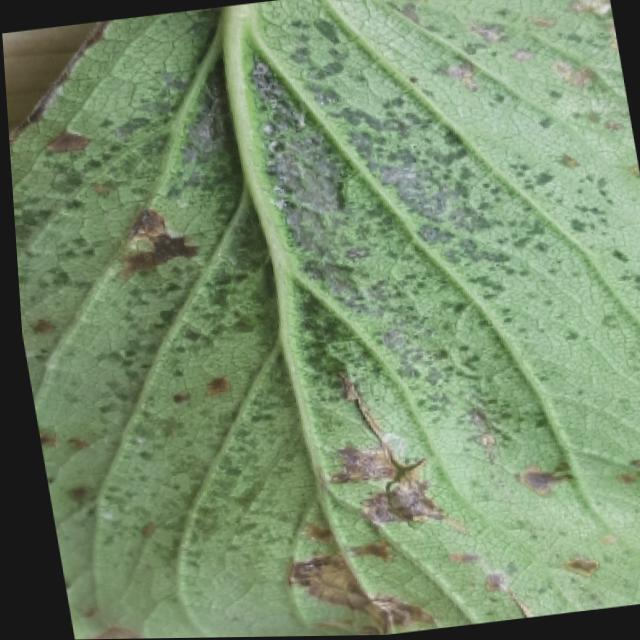Angular Leafspot: (7, 0, 640, 640)
